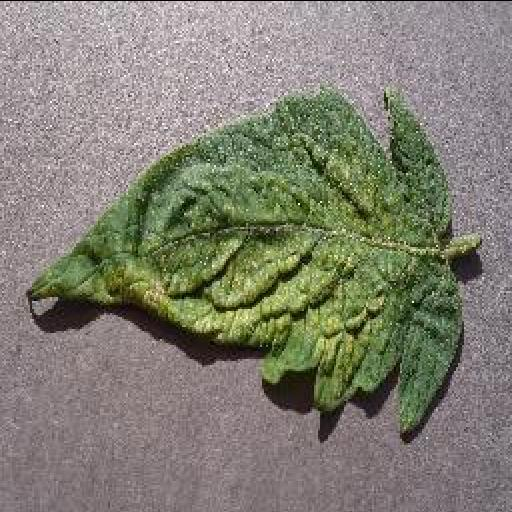disease_tomato: (24, 94, 464, 438)
